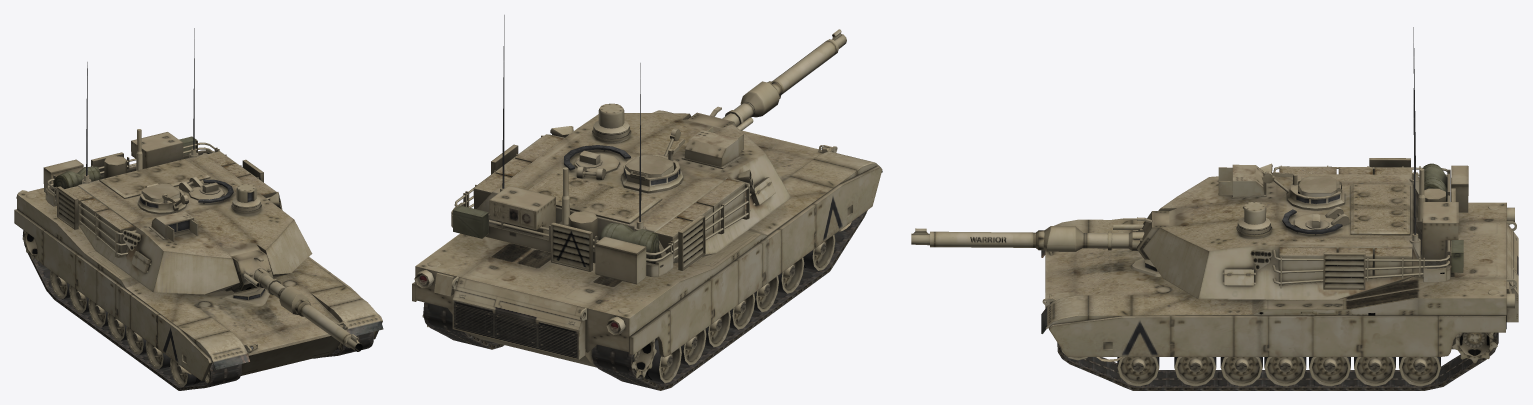
The model's file is tank.fbx.
The picture shows the model from 3 angles, left to right: view 1: azimuth 30°, elevation 25°; view 2: azimuth 150°, elevation 25°; view 3: azimuth 270°, elevation 25°; orthographic projection. The views are drawn at different scales.
Visible parts, largest first — view 1: M1A2:turret, M1A2:frame; view 2: M1A2:frame, M1A2:turret; view 3: M1A2:frame, M1A2:turret.
Part boxes in pixels (x1=…): M1A2:turret: x1=43, y1=28, x2=362, y2=351; M1A2:frame: x1=14, y1=165, x2=383, y2=390; M1A2:frame: x1=412, y1=110, x2=882, y2=390; M1A2:turret: x1=451, y1=15, x2=846, y2=284; M1A2:frame: x1=1041, y1=202, x2=1518, y2=390; M1A2:turret: x1=911, y1=27, x2=1468, y2=300.
Size of the model in its own units: 308 by 435 by 798.
Materials: 1 (1 with a texture image).
